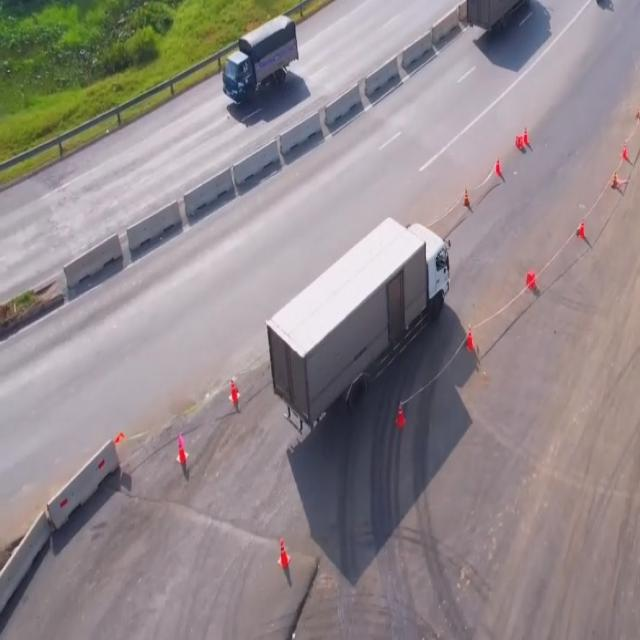truck: (266, 221, 451, 417), (220, 8, 298, 114), (457, 0, 538, 32)
